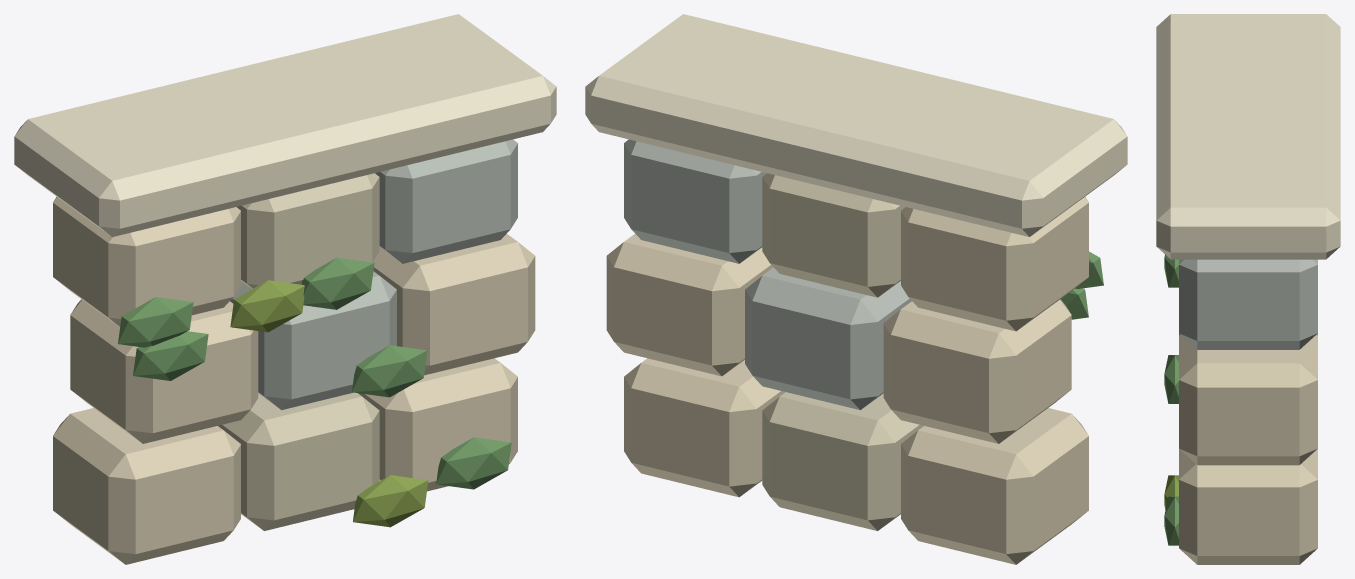
Rendered from wall_low.glb.
3 renders of one model, left to right at view 1: azimuth 30°, elevation 25°; view 2: azimuth 150°, elevation 25°; view 3: azimuth 270°, elevation 25°, orthographic. The views are drawn at different scales.
Parts seen in each view (by area): view 1: wall_low; view 2: wall_low; view 3: wall_low.
Boxes of the visible parts, <box> form: wall_low: <box>14,14,556,564</box>; wall_low: <box>585,14,1127,564</box>; wall_low: <box>1156,14,1340,564</box>.
Bounding box in the file's own units: 1.19 × 1.03 × 0.45.
